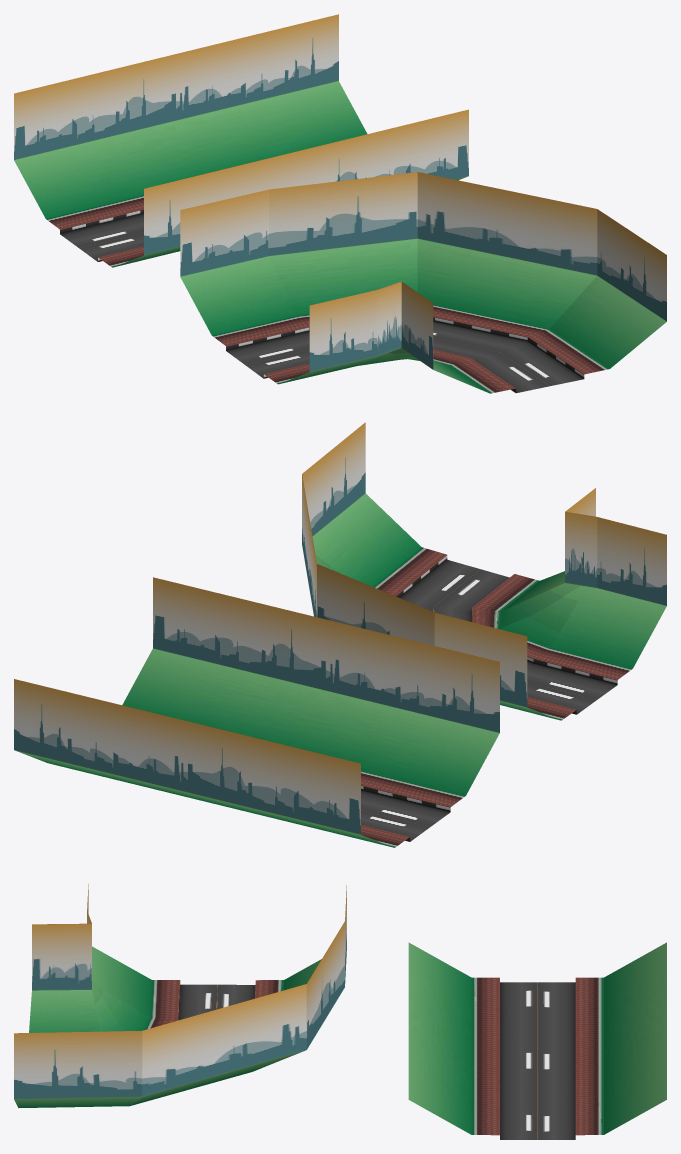
Rendered from road.fbx.
3 renders of one model, top to bottom at view 1: azimuth 30°, elevation 25°; view 2: azimuth 150°, elevation 25°; view 3: azimuth 270°, elevation 25°, orthographic. The views are drawn at different scales.
Visible parts, largest first — view 1: Turn, Straight_0; view 2: Straight_0, Turn; view 3: Straight_0, Turn.
Part boxes in pixels (bbox=[...]): Turn: bbox=[180, 172, 666, 393]; Straight_0: bbox=[14, 14, 468, 267]; Straight_0: bbox=[14, 577, 499, 847]; Turn: bbox=[302, 422, 666, 720]; Straight_0: bbox=[408, 942, 666, 1139]; Turn: bbox=[14, 884, 346, 1108].
Size of the model in its own units: 1844 by 581 by 3231.
Materials: 1 (1 with a texture image).
